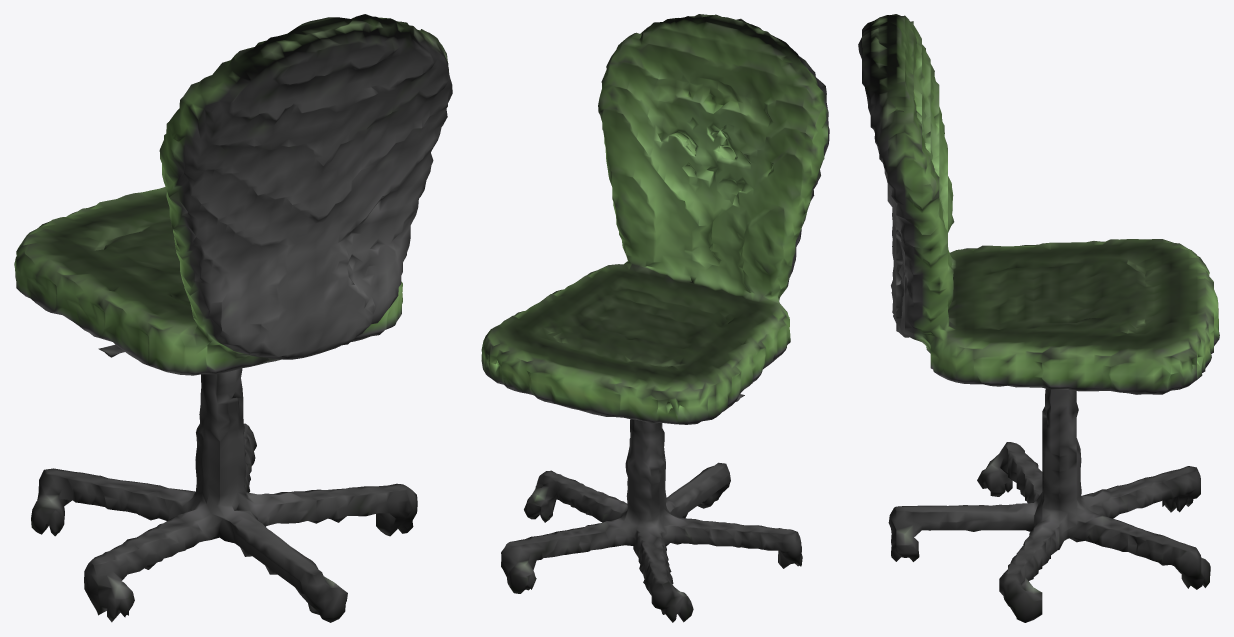
The model's file is chair_whole.obj.
3 renders of one model, left to right at view 1: azimuth 30°, elevation 25°; view 2: azimuth 150°, elevation 25°; view 3: azimuth 270°, elevation 25°, orthographic. The views are drawn at different scales.
Size of the model in its own units: 0.9072 by 1.59 by 1.
